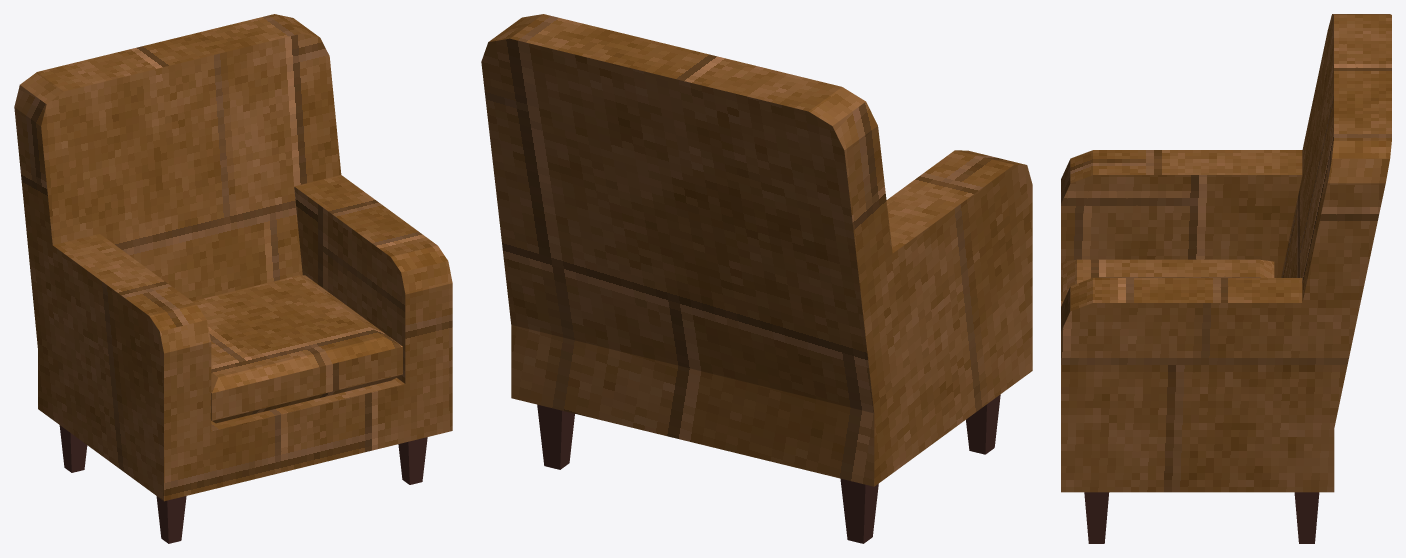
Rendered from armchair-tile.glb.
The picture shows the model from 3 angles, left to right: view 1: azimuth 30°, elevation 25°; view 2: azimuth 150°, elevation 25°; view 3: azimuth 270°, elevation 25°; orthographic projection. The views are drawn at different scales.
Visible parts, largest first — view 1: Armchair, Armchair.001; view 2: Armchair, Armchair.001; view 3: Armchair, Armchair.001.
Part boxes in pixels (x1,y1,x2,y2): Armchair: (14,14,452,501); Armchair.001: (59,425,427,543); Armchair: (481,14,1032,486); Armchair.001: (537,394,1000,543); Armchair: (1061,14,1391,492); Armchair.001: (1084,492,1319,543).
Size of the model in its own units: 0.5881 by 0.7162 by 0.5384.
2 materials, 2 textured.
